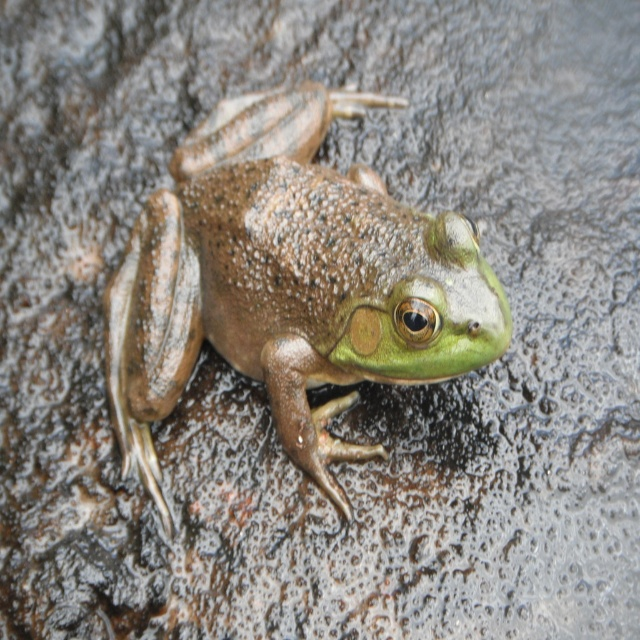Frog: (99, 81, 513, 546)
